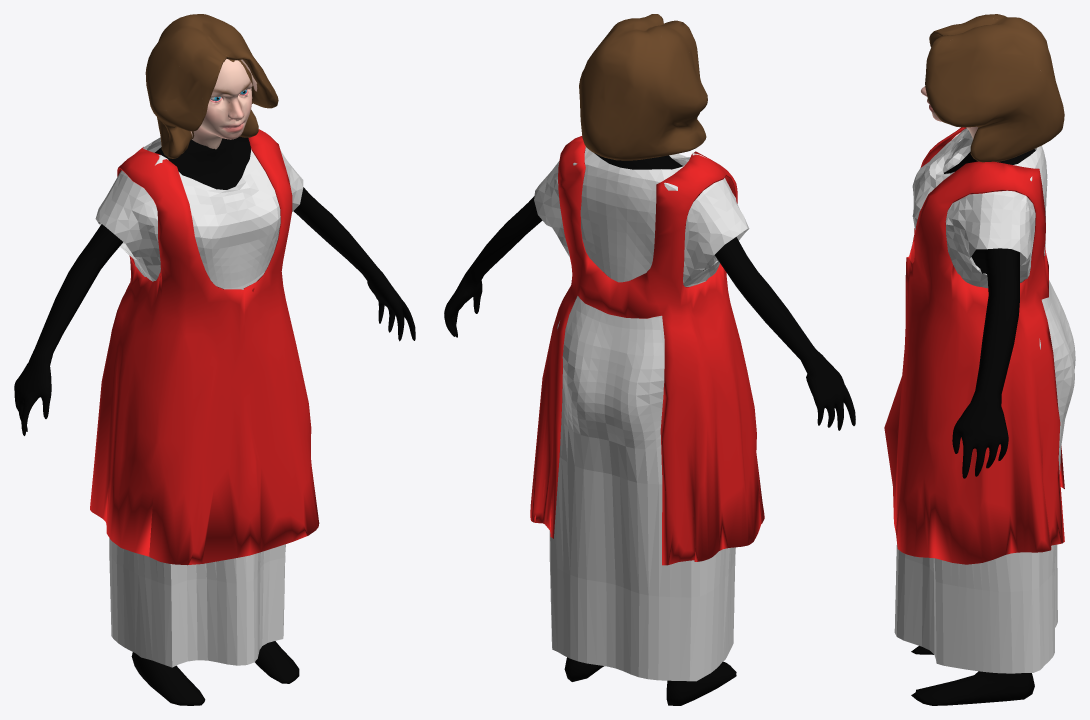
Rendered from femaleNPC2.fbx.
The picture shows the model from 3 angles, left to right: view 1: azimuth 30°, elevation 25°; view 2: azimuth 150°, elevation 25°; view 3: azimuth 270°, elevation 25°; orthographic projection. The views are drawn at different scales.
Visible parts, largest first — view 1: apronLow, dress, low; view 2: dress, apronLow, low; view 3: apronLow, dress, low.
Part boxes in pixels (x1,y1,x2,y2): apronLow: [90, 129, 319, 565]; dress: [95, 137, 303, 667]; low: [14, 14, 415, 705]; dress: [534, 146, 749, 681]; apronLow: [530, 136, 764, 565]; low: [444, 14, 855, 705]; apronLow: [884, 127, 1064, 564]; dress: [894, 128, 1075, 673]; low: [911, 14, 1064, 705].
Size of the model in its own units: 103 by 161 by 42.71.
Materials: 4 (1 with a texture image).
